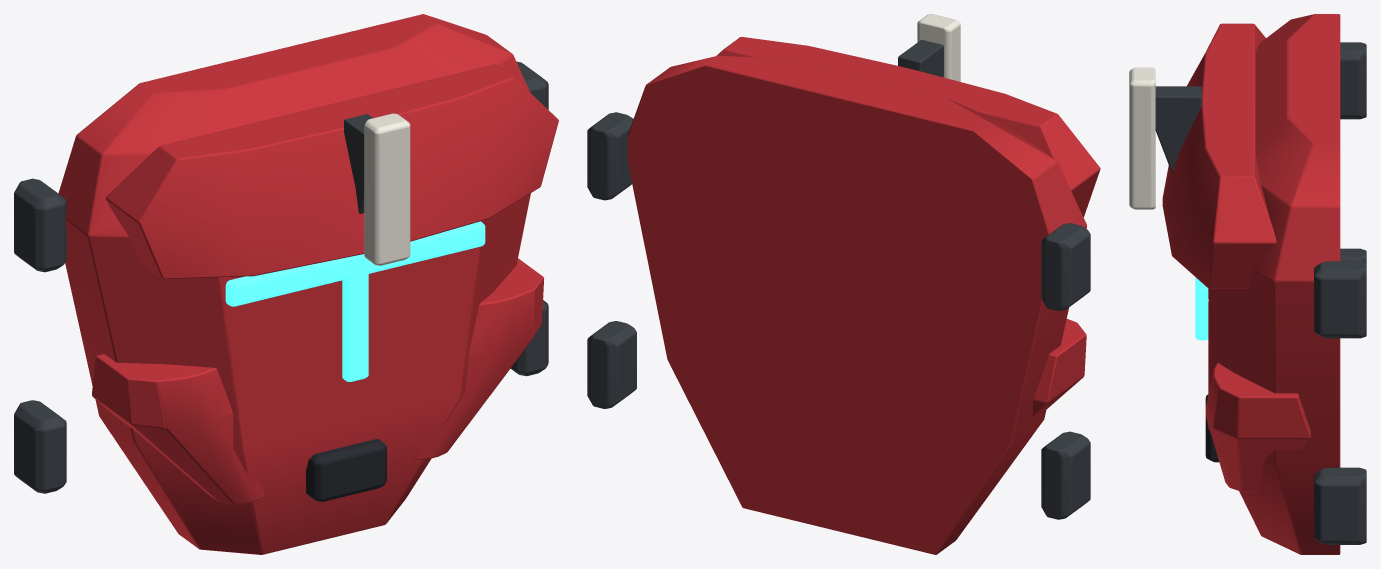
Rendered from HeadFront_Set10_Aegis.fbx.
3 renders of one model, left to right at view 1: azimuth 30°, elevation 25°; view 2: azimuth 150°, elevation 25°; view 3: azimuth 270°, elevation 25°, orthographic. The views are drawn at different scales.
Visible parts, largest first — view 1: HeadFront_Set10_Aegis; view 2: HeadFront_Set10_Aegis; view 3: HeadFront_Set10_Aegis.
Part boxes in pixels (left/top/right/bottom): HeadFront_Set10_Aegis: left=14, top=14, right=558, bottom=554; HeadFront_Set10_Aegis: left=587, top=14, right=1100, bottom=554; HeadFront_Set10_Aegis: left=1129, top=14, right=1366, bottom=554.
Bounding box in the file's own units: 0.63 × 0.5454 × 0.27.
